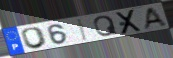6: (47, 23, 70, 45)
A: (143, 6, 168, 31)
I: (77, 18, 90, 42)
O: (20, 26, 49, 50)
Q: (93, 15, 120, 38)
X: (115, 8, 144, 36)
